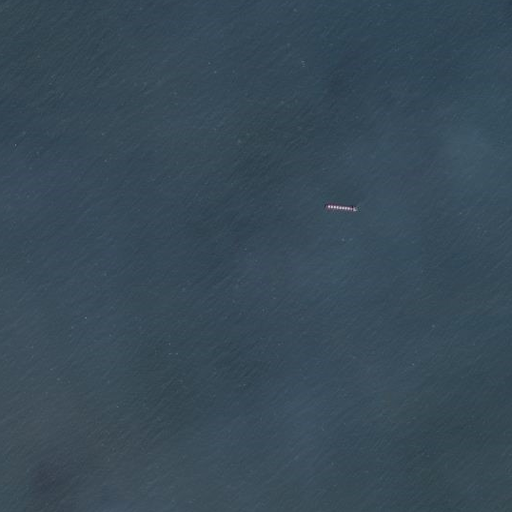ship: (322, 200, 361, 215)
